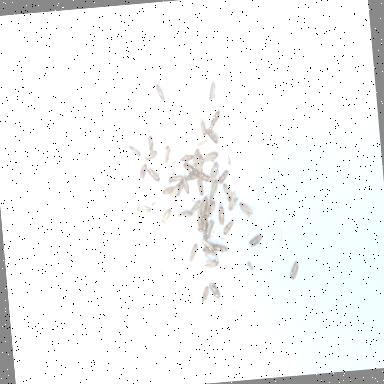pbw: (238, 200, 255, 220), (136, 160, 150, 183), (205, 124, 220, 145), (210, 160, 224, 182), (142, 146, 160, 163), (156, 183, 176, 198), (202, 246, 219, 263), (194, 210, 206, 234), (153, 80, 166, 102), (179, 174, 190, 200), (147, 164, 161, 184), (208, 108, 222, 127), (190, 146, 202, 168), (159, 208, 173, 226), (207, 281, 220, 300), (205, 218, 216, 240), (222, 182, 234, 202), (197, 194, 209, 214), (288, 260, 300, 280), (200, 216, 210, 240), (227, 192, 239, 212), (222, 219, 236, 236), (207, 80, 218, 101), (208, 180, 219, 201), (162, 142, 172, 165), (187, 243, 199, 262), (182, 160, 198, 174), (248, 234, 264, 248), (168, 183, 180, 201), (196, 170, 212, 183), (203, 149, 219, 162), (217, 169, 230, 185), (200, 285, 210, 305), (194, 154, 205, 172), (201, 238, 215, 252), (128, 144, 142, 158), (189, 200, 201, 216), (178, 152, 194, 164), (212, 242, 228, 254), (207, 200, 217, 219), (204, 198, 214, 216), (144, 134, 154, 152), (217, 204, 225, 226), (196, 176, 204, 196), (199, 117, 207, 137), (175, 180, 184, 197), (177, 208, 192, 218), (135, 206, 153, 214), (186, 170, 198, 181), (204, 260, 220, 268), (170, 174, 182, 182), (246, 260, 254, 271)
